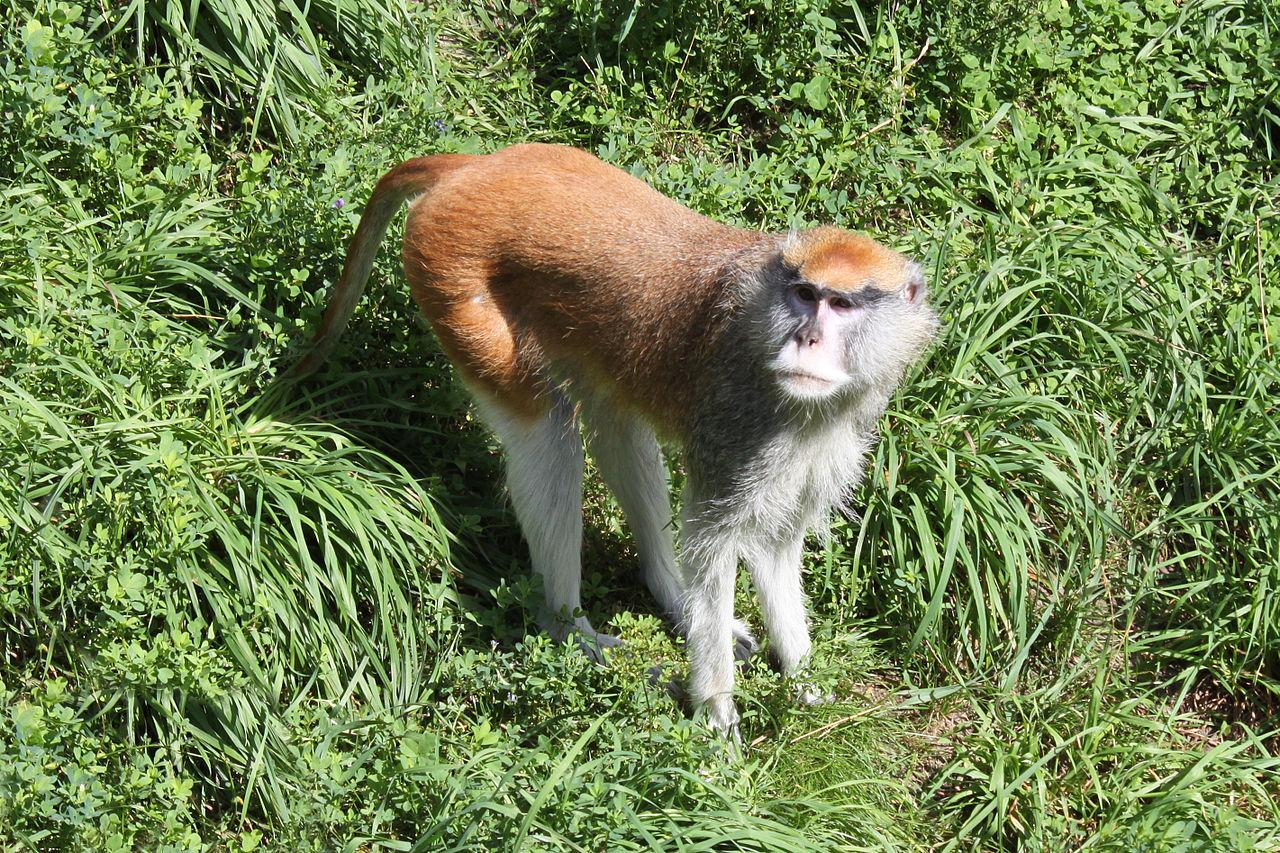monkey: (349, 145, 944, 732)
